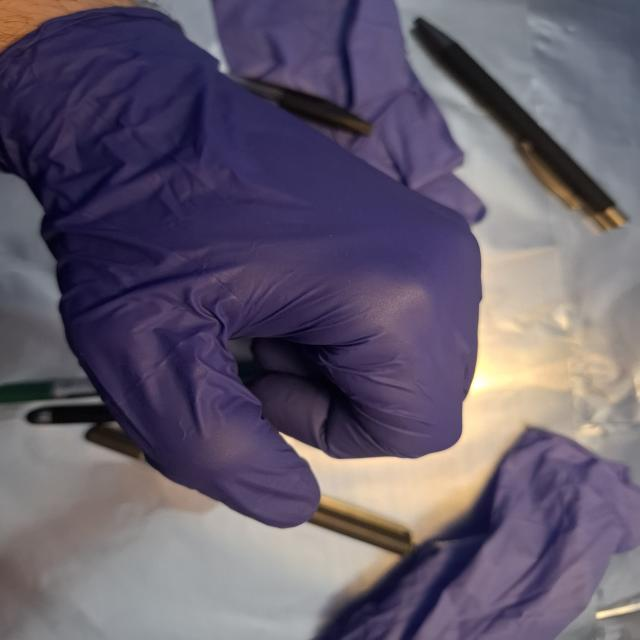glove_on: (0, 6, 485, 531)
